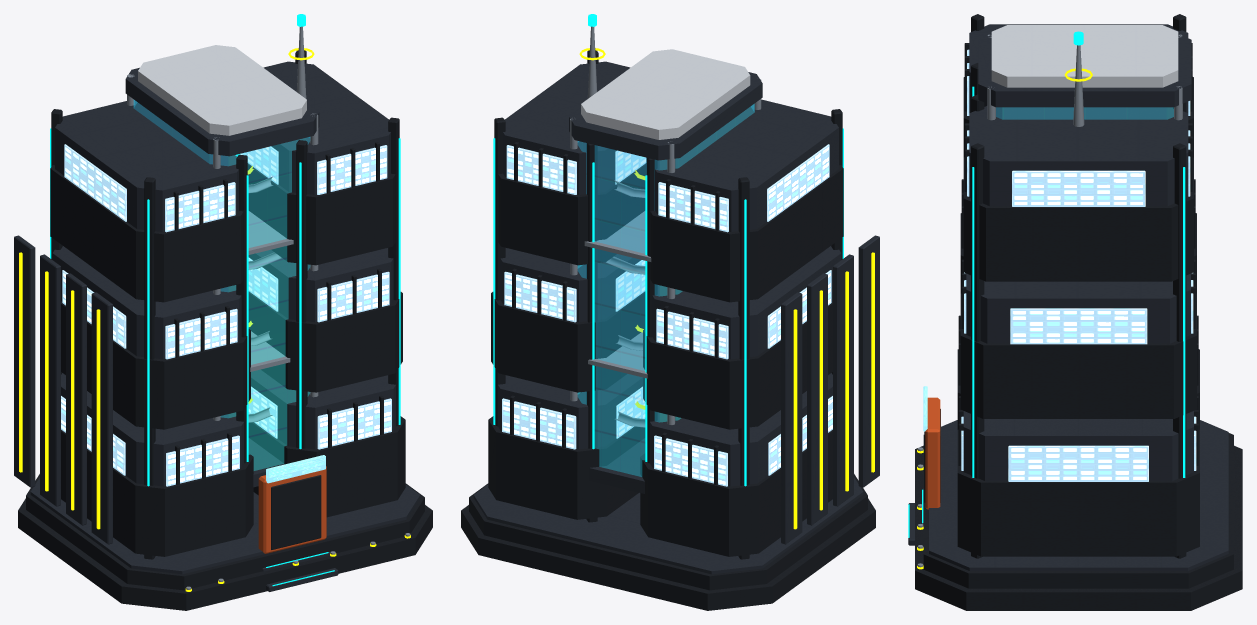
File: bldg_12_r1_03.glb
3 renders of one model, left to right at view 1: azimuth 30°, elevation 25°; view 2: azimuth 150°, elevation 25°; view 3: azimuth 270°, elevation 25°, orthographic. The views are drawn at different scales.
Parts seen in each view (by area): view 1: Bldg12_C03_gunmetal, Bldg12_C03_carbon_slate, Bldg12_C03_window_lit, Bldg12_C03_glass_cyan, Bldg12_C03_aero_white, Bldg12_C03_led_amber, Bldg12_C03_steel_machined, Bldg12_C03_led_cyan, Bldg12_C03_accent_orange, Bldg12_C03_marquee; view 2: Bldg12_C03_gunmetal, Bldg12_C03_carbon_slate, Bldg12_C03_window_lit, Bldg12_C03_glass_cyan, Bldg12_C03_aero_white, Bldg12_C03_steel_machined, Bldg12_C03_led_amber, Bldg12_C03_led_cyan; view 3: Bldg12_C03_gunmetal, Bldg12_C03_carbon_slate, Bldg12_C03_window_lit, Bldg12_C03_aero_white, Bldg12_C03_led_cyan, Bldg12_C03_glass_cyan, Bldg12_C03_accent_orange, Bldg12_C03_steel_machined.
Boxes of the visible parts, box(x1,y1,x2,y2) form: Bldg12_C03_gunmetal: box(18, 50, 432, 610); Bldg12_C03_carbon_slate: box(14, 61, 420, 591); Bldg12_C03_window_lit: box(61, 144, 391, 486); Bldg12_C03_glass_cyan: box(133, 100, 310, 470); Bldg12_C03_aero_white: box(138, 45, 306, 135); Bldg12_C03_led_amber: box(19, 48, 410, 591); Bldg12_C03_steel_machined: box(127, 26, 410, 589); Bldg12_C03_led_cyan: box(50, 14, 400, 586); Bldg12_C03_accent_orange: box(258, 466, 326, 553); Bldg12_C03_marquee: box(266, 455, 325, 483); Bldg12_C03_gunmetal: box(461, 50, 875, 610); Bldg12_C03_carbon_slate: box(473, 61, 879, 574); Bldg12_C03_window_lit: box(502, 144, 832, 486); Bldg12_C03_glass_cyan: box(577, 104, 754, 476); Bldg12_C03_aero_white: box(581, 49, 750, 139); Bldg12_C03_steel_machined: box(570, 26, 761, 427); Bldg12_C03_led_amber: box(579, 48, 874, 529); Bldg12_C03_led_cyan: box(493, 14, 843, 486); Bldg12_C03_gunmetal: box(915, 14, 1242, 610); Bldg12_C03_carbon_slate: box(908, 24, 1228, 570); Bldg12_C03_window_lit: box(961, 49, 1196, 481); Bldg12_C03_aero_white: box(991, 25, 1178, 87); Bldg12_C03_led_cyan: box(908, 31, 1185, 537); Bldg12_C03_glass_cyan: box(996, 107, 1173, 119); Bldg12_C03_accent_orange: box(925, 397, 940, 509); Bldg12_C03_steel_machined: box(917, 34, 1182, 567).
Size of the model in its own units: 12.95 by 18.92 by 10.71.
10 materials, 10 textured.
